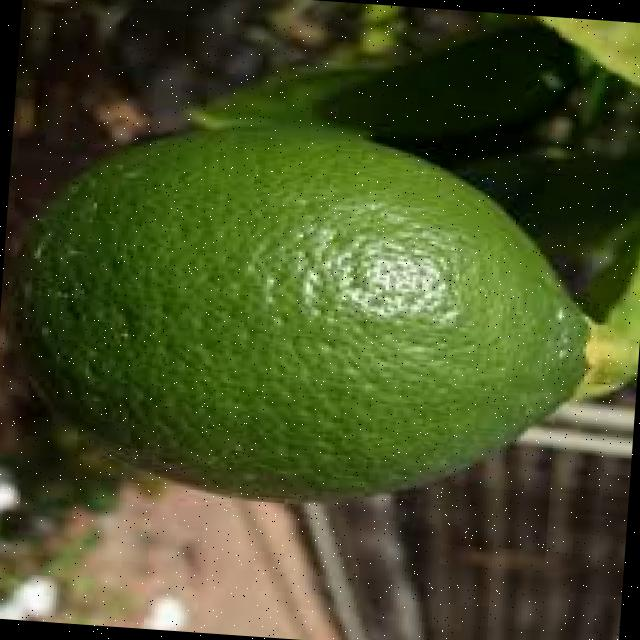Unripe: (0, 104, 606, 525)
